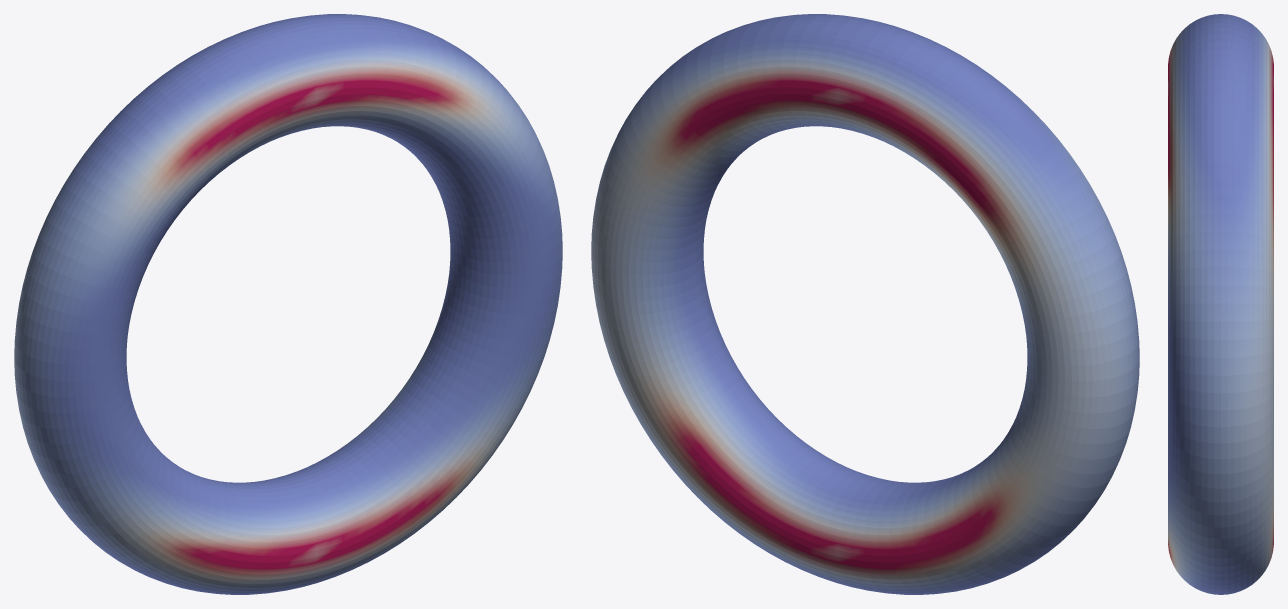
3 views of the same model, side by side, from view 1: azimuth 30°, elevation 25°; view 2: azimuth 150°, elevation 25°; view 3: azimuth 270°, elevation 25° (orthographic). The views are drawn at different scales.
Visible parts, largest first — view 1: world; view 2: world; view 3: world.
Boxes of the visible parts, x1,y1,x2,y2 form: world: [14, 14, 562, 594]; world: [591, 14, 1139, 594]; world: [1168, 14, 1273, 594].
Size of the model in its own units: 21.2 by 21.2 by 3.86.
